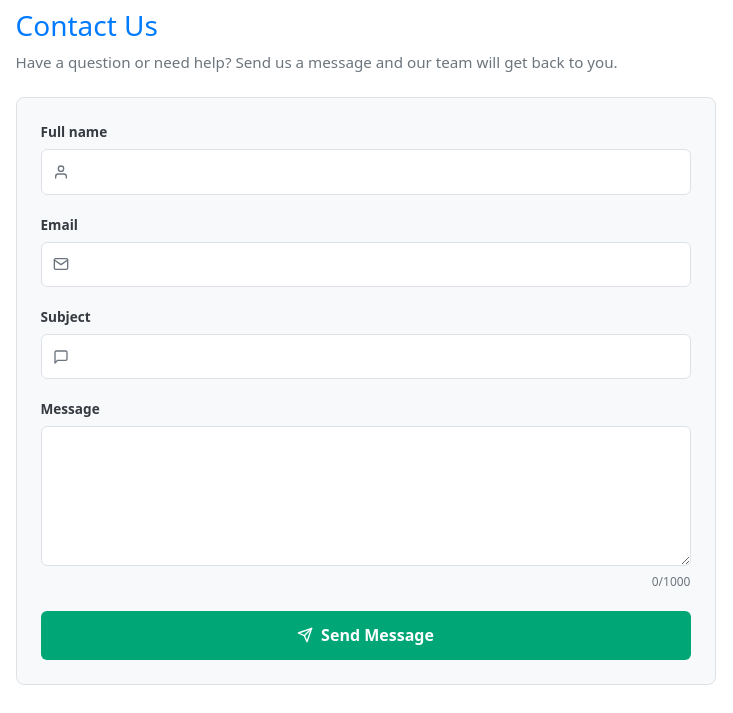
Contact › shows field-specific validation errors for invalid values
Type "a" into the field labelled "Full name" at (366, 172), box top-left (40, 149), bottom-right (690, 195)
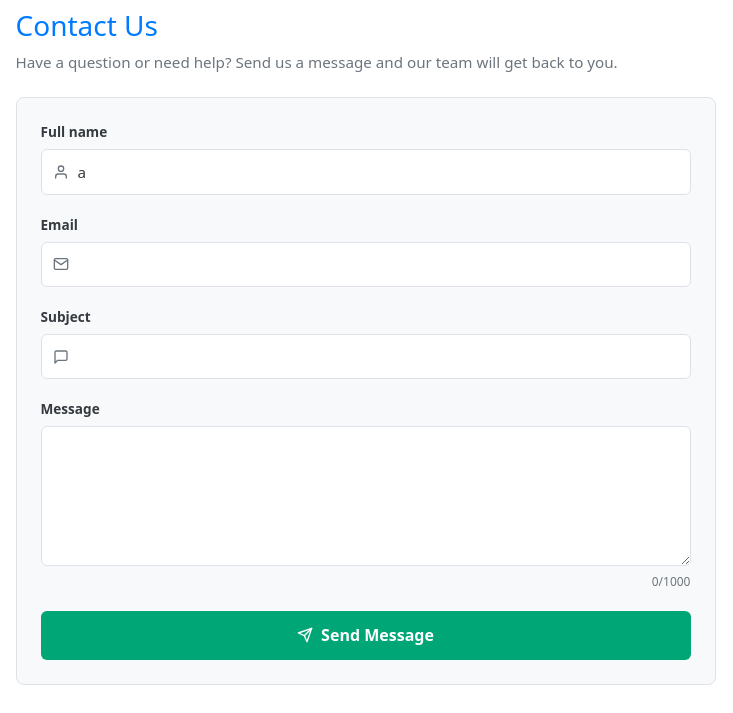
Type "invalid-email" into the field labelled "Email" at (366, 264), box top-left (40, 242), bottom-right (690, 287)
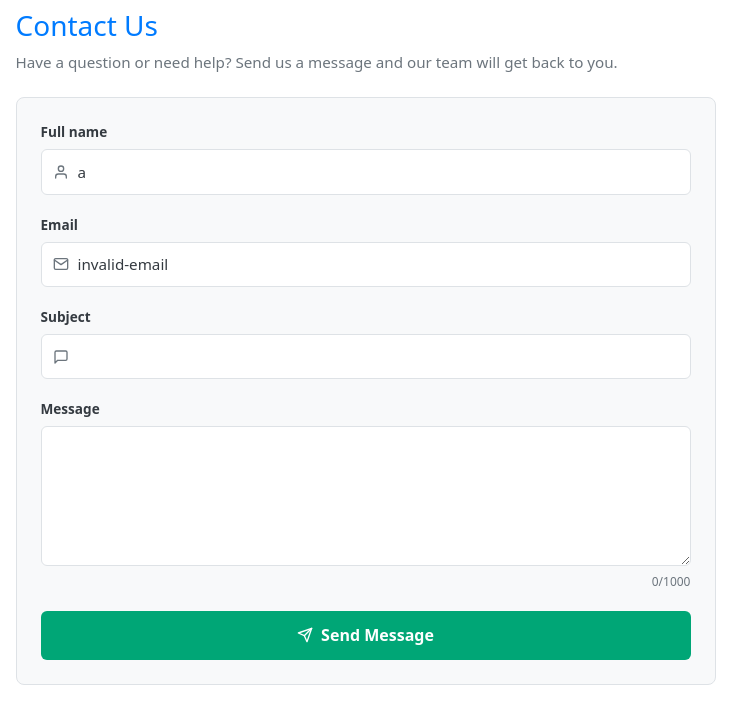
Type "ab" into the field labelled "Subject" at (366, 357), box top-left (40, 334), bottom-right (690, 380)
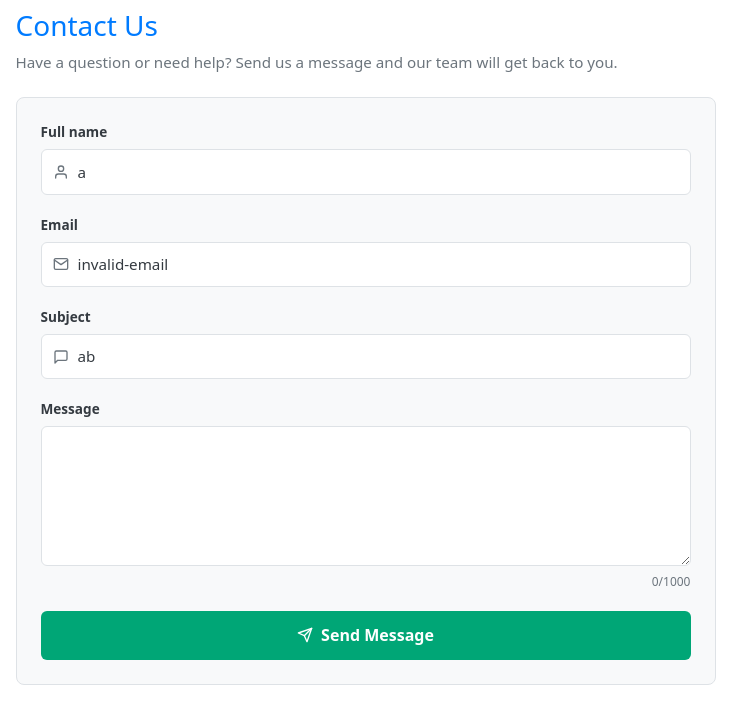
Type "short" into the text box labelled "Message" at (366, 496), box top-left (40, 426), bottom-right (690, 566)
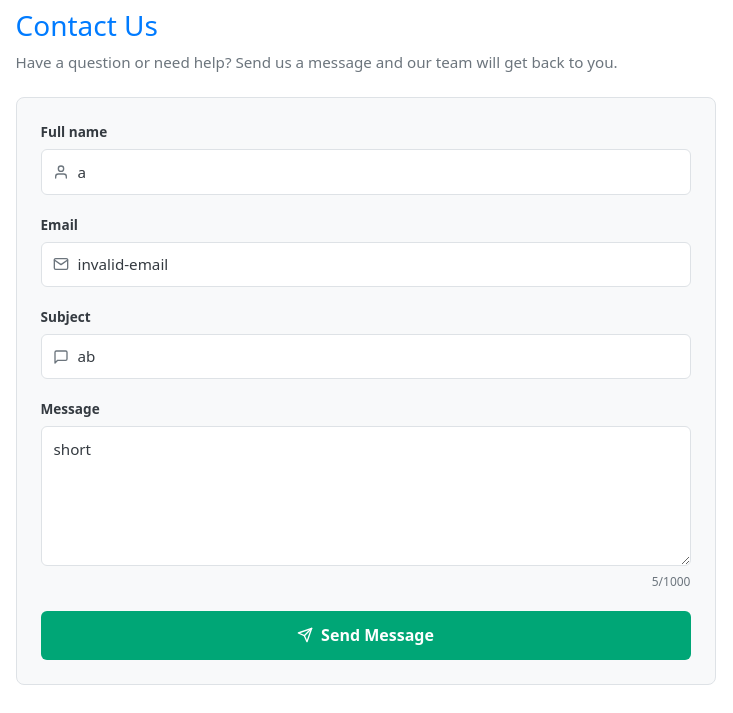
Click the button "Send Message" at (366, 635), box top-left (40, 611), bottom-right (690, 660)
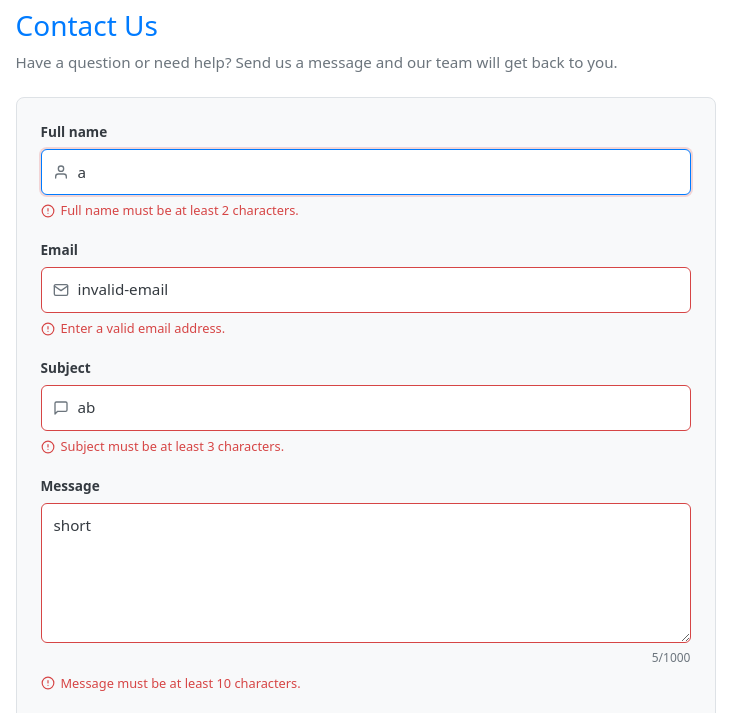
Expected: the text "Full name must be at least 2 characters." is shown, top-left (60, 201), bottom-right (299, 220)
Expected: the text "Enter a valid email address." is shown, top-left (60, 319), bottom-right (225, 338)
Expected: the text "Subject must be at least 3 characters." is shown, top-left (60, 437), bottom-right (284, 456)
